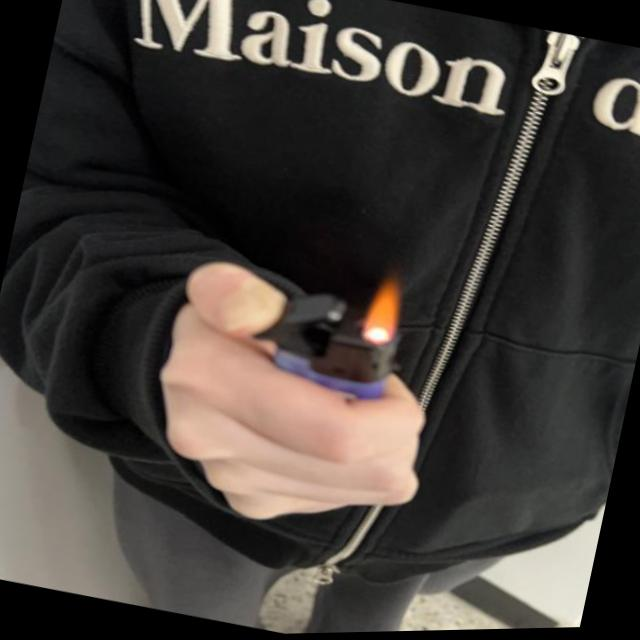Fire: (356, 267, 411, 351)
